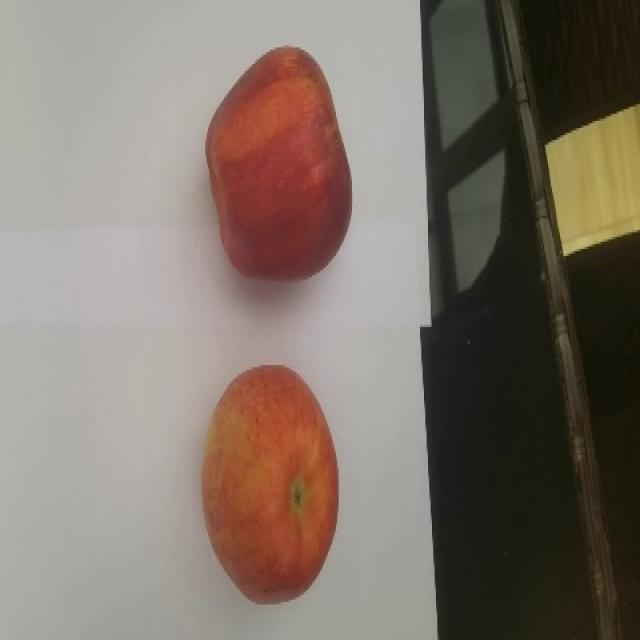Apple: (204, 44, 352, 281), (200, 363, 339, 604)
